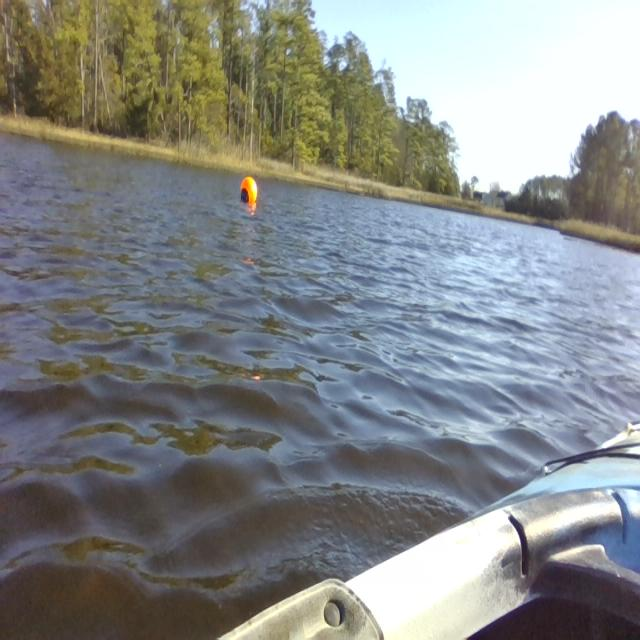Buoy: (237, 175, 261, 206)
